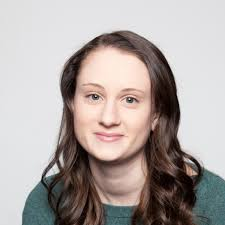middle_eastern_Female: (74, 60, 151, 151)
